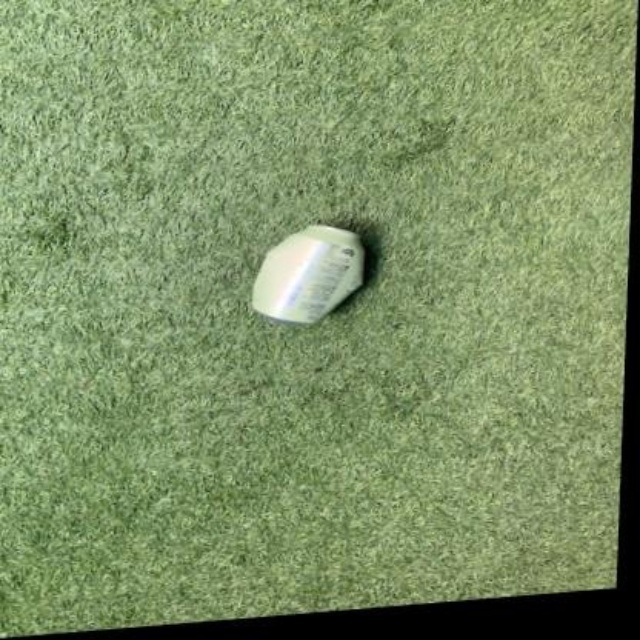trash: (252, 225, 363, 322)
